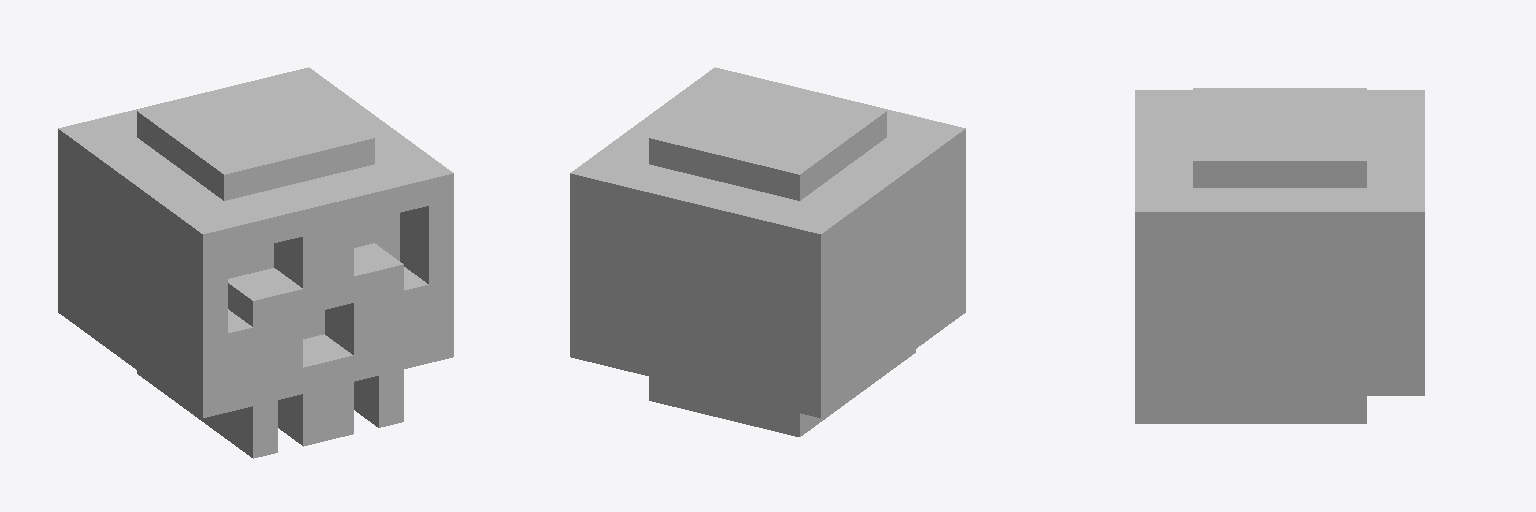
The model's file is Skull_02.obj.
3 views of the same model, side by side, from view 1: azimuth 30°, elevation 25°; view 2: azimuth 150°, elevation 25°; view 3: azimuth 270°, elevation 25° (orthographic).
Visible parts, largest first — view 1: Skull_02.002; view 2: Skull_02.002; view 3: Skull_02.002.
Boxes of the visible parts, <box> form: Skull_02.002: <box>58,67,453,458</box>; Skull_02.002: <box>570,67,965,436</box>; Skull_02.002: <box>1135,88,1424,423</box>.
Size of the model in its own units: 1 by 1 by 1.